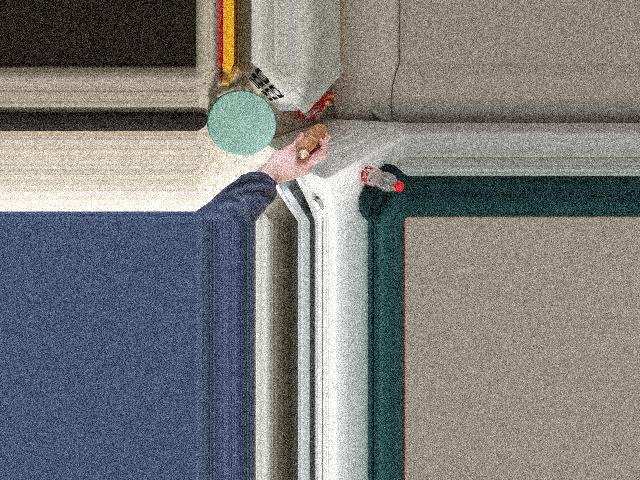sweet_potato: (291, 125, 331, 163)
